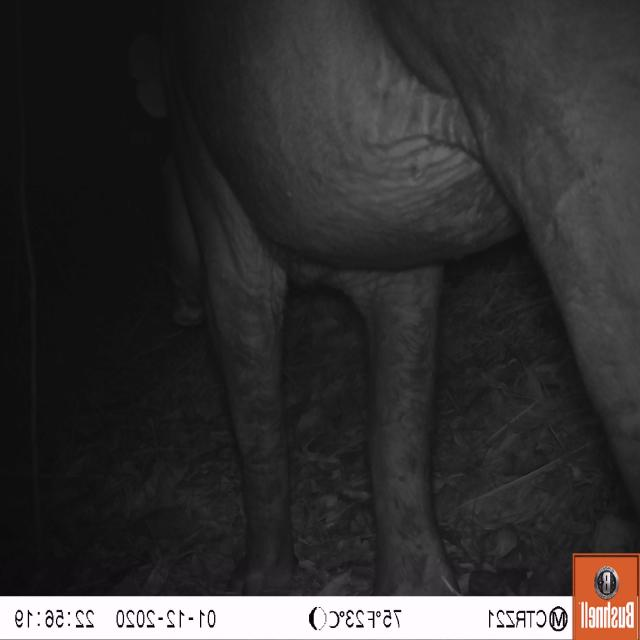Lowland Tapir: (123, 1, 640, 592)
